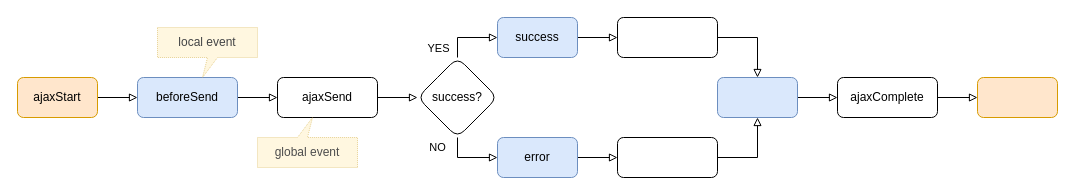
The diagram is 1075 pixels wide and 195 high, and some of its shapes have lost their labels. Each missing label, with the box of its shape:
ajaxError: (616, 136, 718, 178)
ajaxStop: (976, 76, 1058, 118)
ajaxSuccess: (616, 16, 718, 58)
complete: (716, 76, 798, 118)
